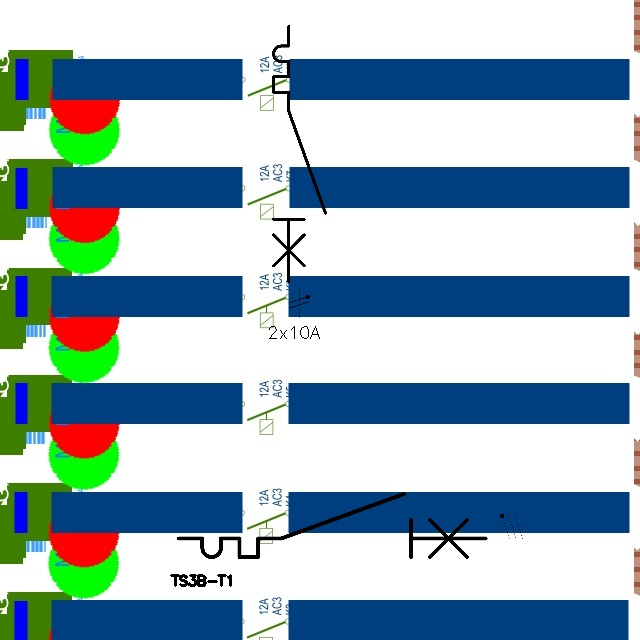interruptor_termomagnetico: (171, 486, 493, 565), (267, 20, 332, 288)
